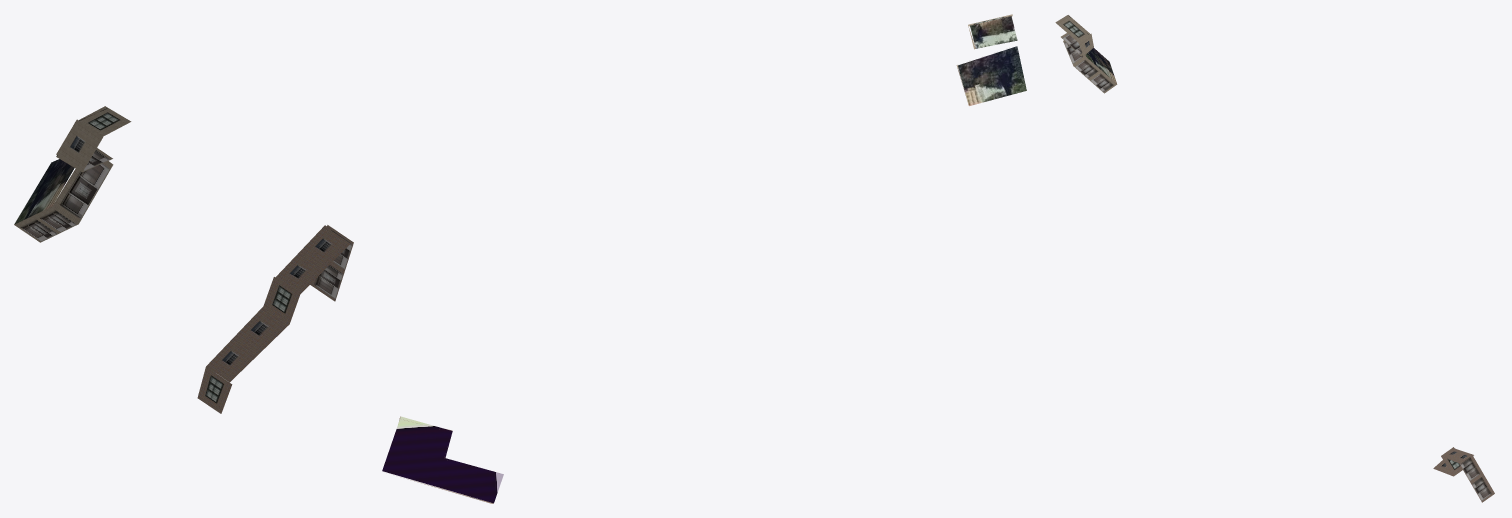
Rendered from tile_LOD4_r9_c10.glb.
3 renders of one model, left to right at view 1: azimuth 30°, elevation 25°; view 2: azimuth 150°, elevation 25°; view 3: azimuth 270°, elevation 25°, orthographic. The views are drawn at different scales.
Bounding box in the file's own units: 80 × 74.5 × 85.5.
Materials: 9 (9 with a texture image).
